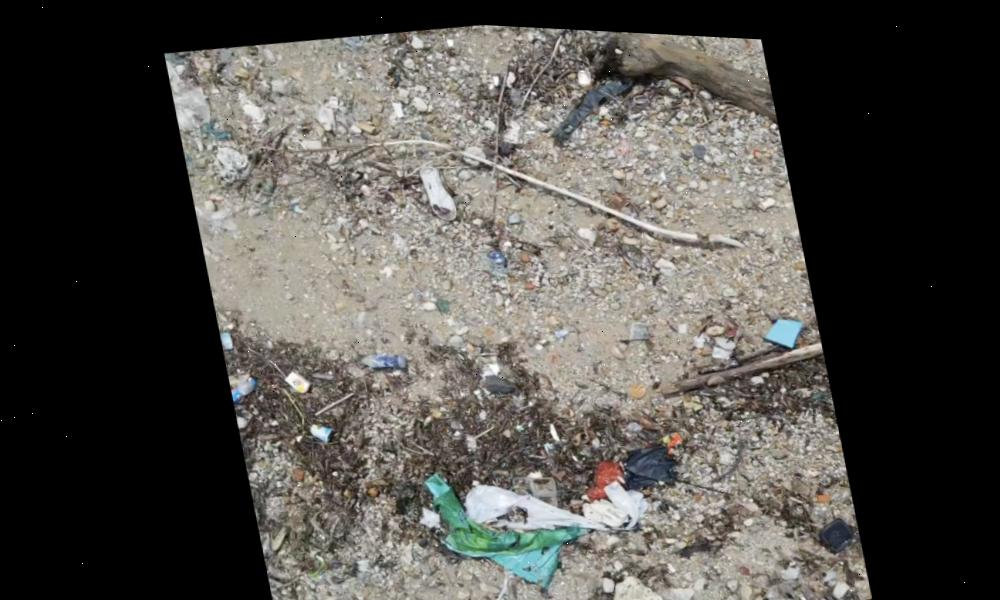carton: (275, 365, 311, 393)
plastic bag: (417, 452, 592, 595), (455, 456, 646, 547), (492, 593, 599, 600)
plastic bottle: (223, 370, 265, 408), (353, 343, 407, 368)
